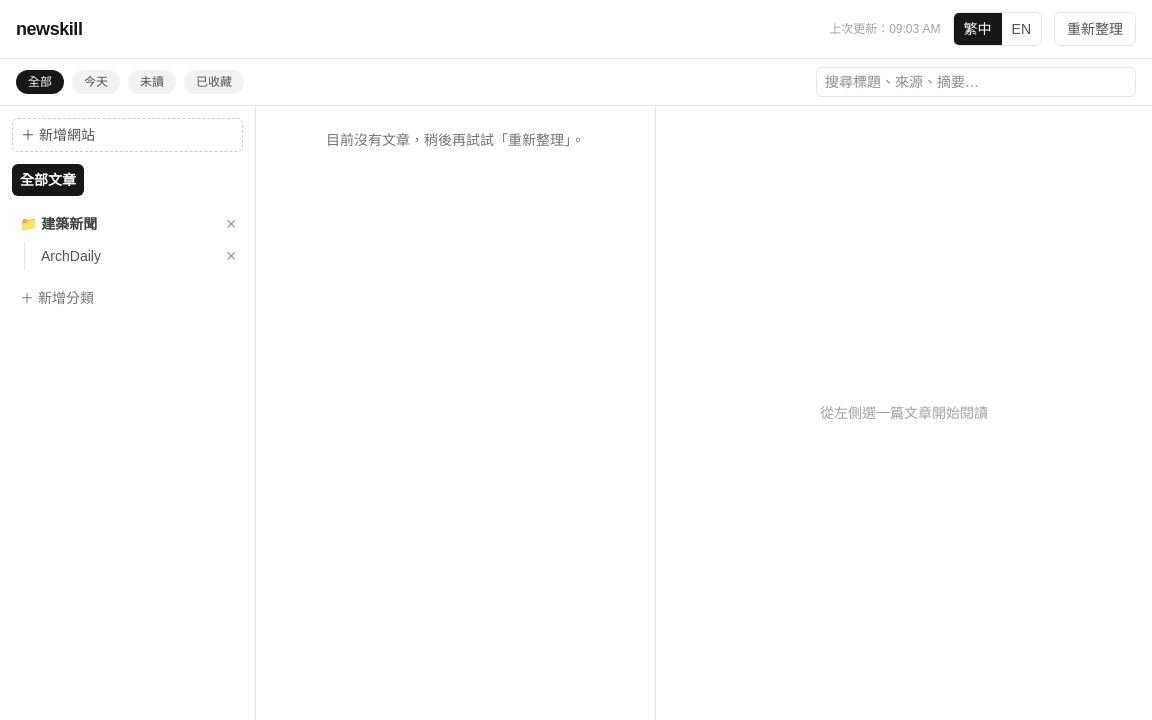
Test case: NewsApp — add/delete are always usable once logged in (no separate admin gate) › clicking ✕ on a source opens the remove-confirmation dialog directly
The width and height of the screenshot is (1152, 720).
Click the button named "取消追蹤 ArchDaily".
click(231, 256)  # box top-left (219, 244), bottom-right (243, 268)
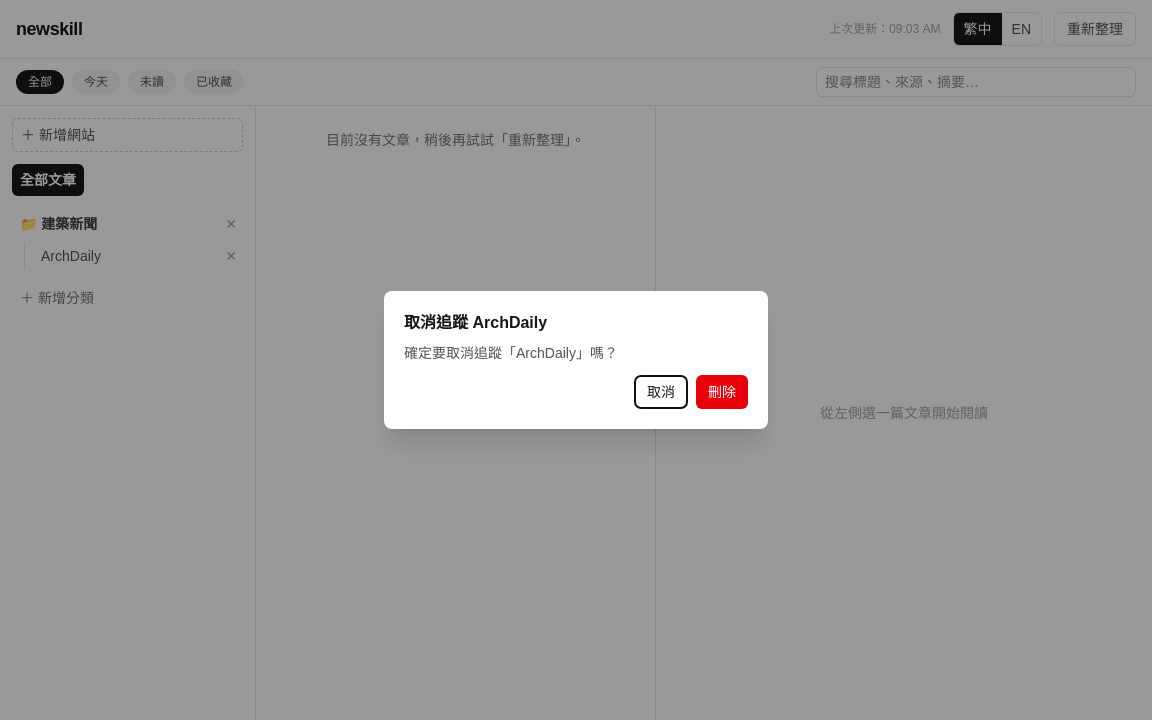
Expected: the text "確定要取消追蹤「ArchDaily」嗎？" is shown, top-left (404, 345), bottom-right (618, 361)
